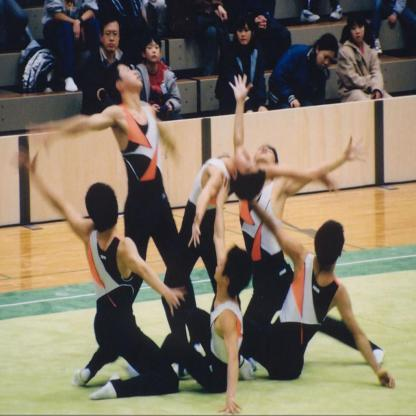face: (121, 65, 143, 87), (103, 26, 120, 52), (215, 252, 231, 279), (237, 148, 255, 172), (317, 50, 336, 69), (256, 146, 276, 161), (147, 42, 161, 63), (238, 26, 252, 45), (352, 24, 365, 42)
